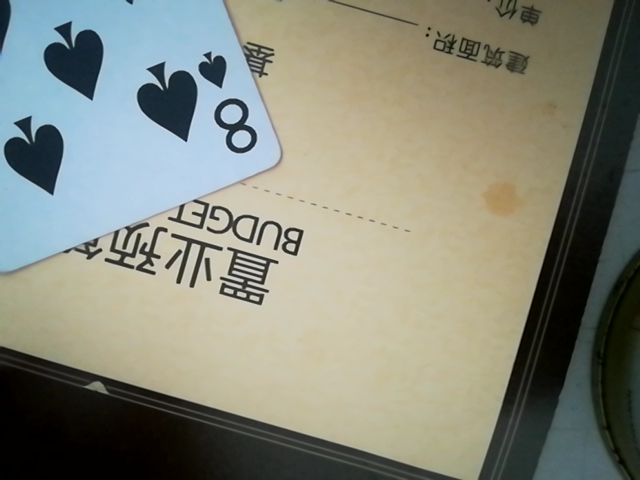ht 8: (0, 0, 287, 302)
